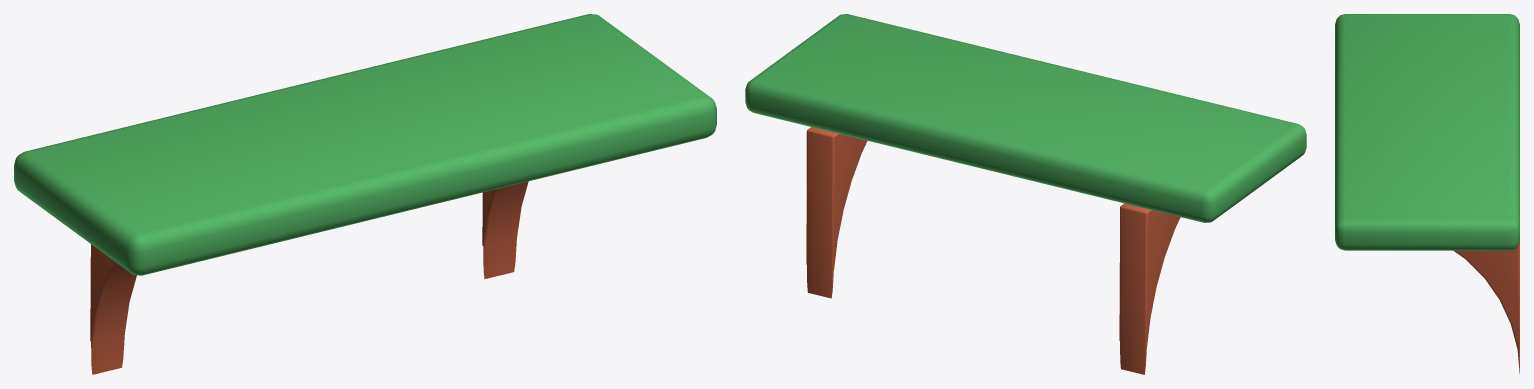
File: prateleira_maos_francesas_verde.glb
3 views of the same model, side by side, from view 1: azimuth 30°, elevation 25°; view 2: azimuth 150°, elevation 25°; view 3: azimuth 270°, elevation 25° (orthographic). The views are drawn at different scales.
Visible parts, largest first — view 1: prateleira_maos_francesas_verde; view 2: prateleira_maos_francesas_verde; view 3: prateleira_maos_francesas_verde.
Part boxes in pixels (x1,y1,x2,y2): prateleira_maos_francesas_verde: [14, 14, 716, 374]; prateleira_maos_francesas_verde: [745, 14, 1306, 374]; prateleira_maos_francesas_verde: [1335, 14, 1519, 374].
Bounding box in the file's own units: 0.6 × 0.2386 × 0.22.
Materials: 1 (1 with a texture image).
